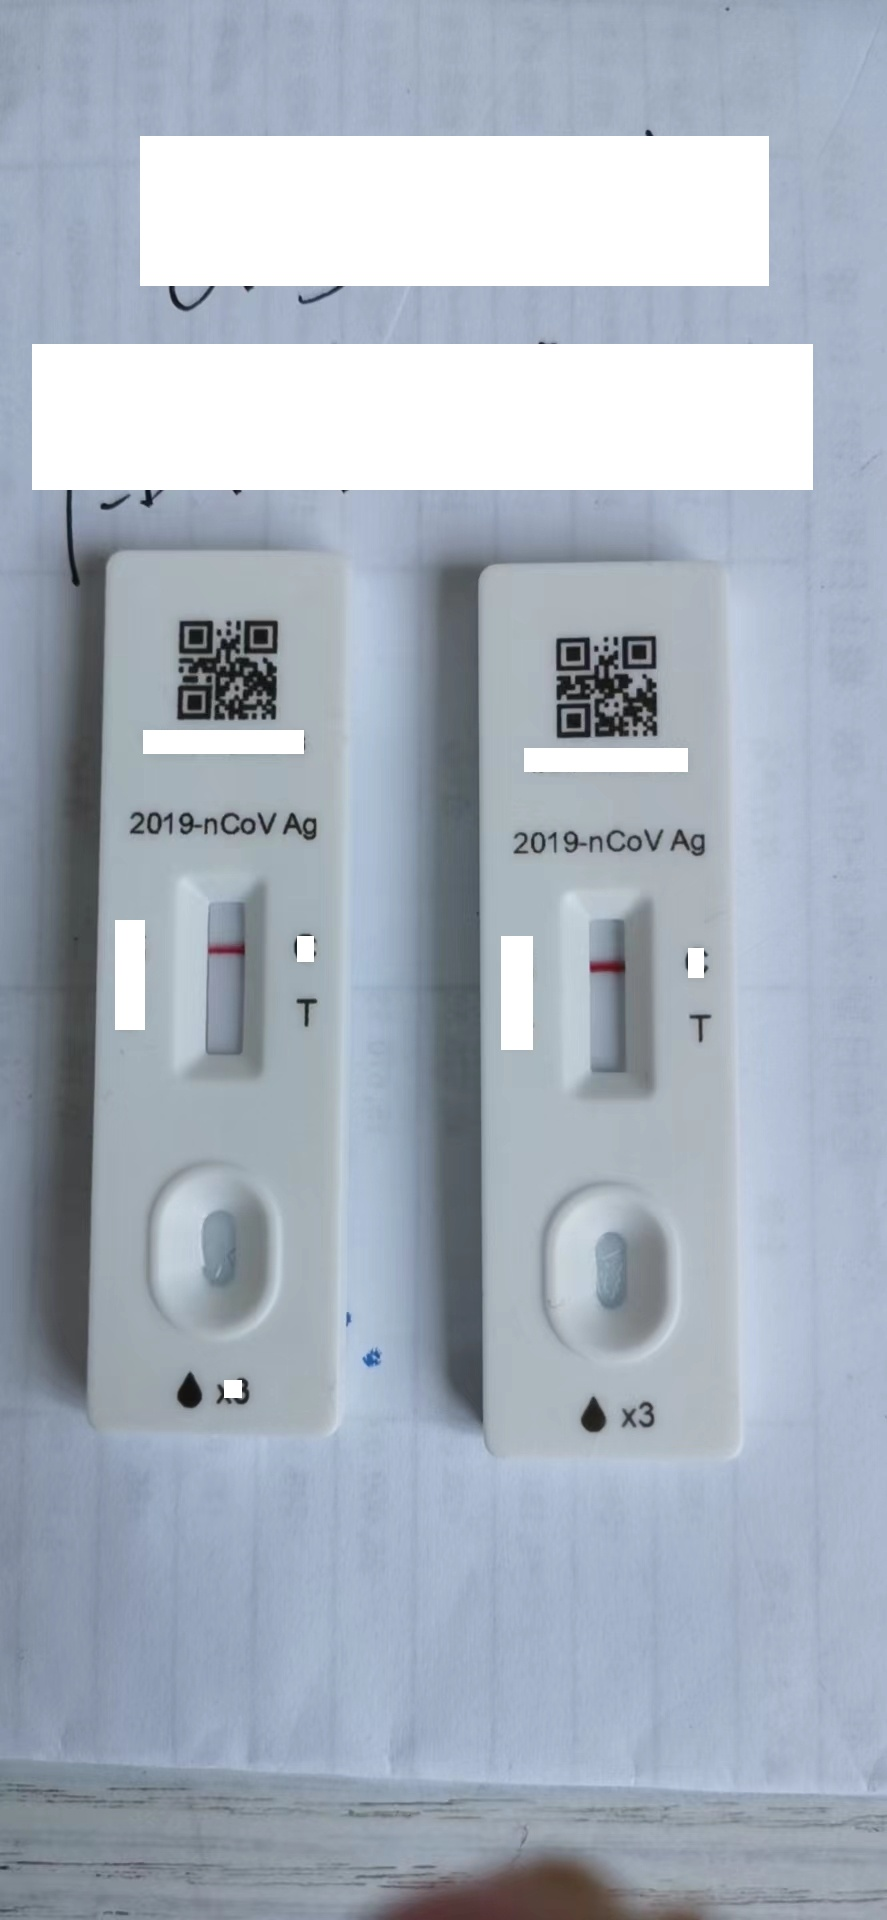negative: (564, 888, 654, 1101), (183, 869, 270, 1076)
